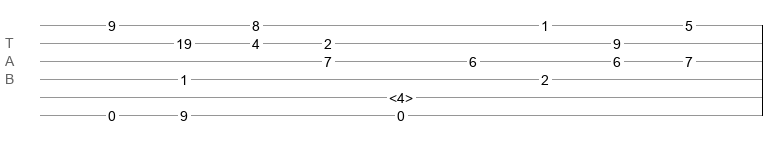0: (108, 108, 116, 118), (397, 108, 405, 118)
1: (180, 72, 188, 82), (541, 18, 549, 28)
19: (176, 36, 192, 46)
2: (324, 36, 332, 46), (541, 72, 549, 82)
4: (252, 36, 260, 46)
5: (685, 18, 693, 28)
6: (469, 54, 477, 64), (613, 54, 621, 64)
7: (324, 54, 332, 64), (685, 54, 693, 64)
8: (252, 18, 260, 28)
9: (108, 18, 116, 28), (180, 108, 188, 118), (613, 36, 621, 46)
harmonic: (389, 90, 413, 100)
